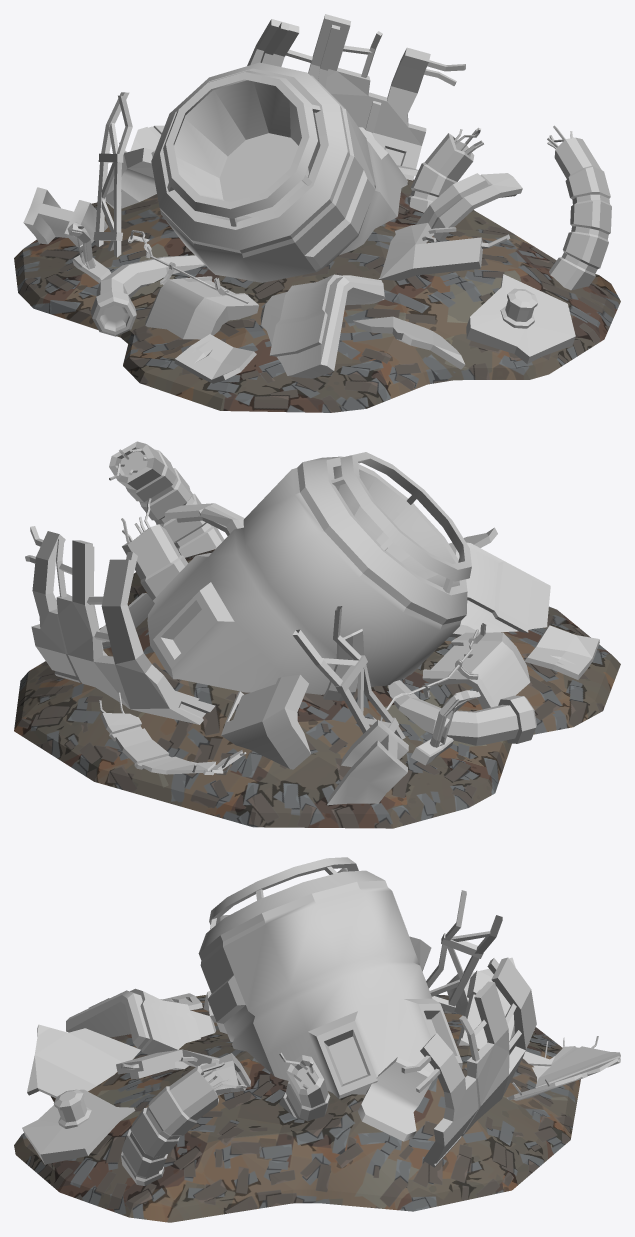
The model's file is SM_Prop_Scav_Scrap_Pile_03.fbx.
3 renders of one model, top to bottom at view 1: azimuth 30°, elevation 25°; view 2: azimuth 150°, elevation 25°; view 3: azimuth 270°, elevation 25°, orthographic. The views are drawn at different scales.
Parts seen in each view (by area): view 1: SM_Prop_Scav_Scrap_Pile_03; view 2: SM_Prop_Scav_Scrap_Pile_03; view 3: SM_Prop_Scav_Scrap_Pile_03.
Part boxes in pixels (left/top/right/bottom): SM_Prop_Scav_Scrap_Pile_03: left=14, top=14, right=620, bottom=412; SM_Prop_Scav_Scrap_Pile_03: left=14, top=441, right=620, bottom=828; SM_Prop_Scav_Scrap_Pile_03: left=14, top=857, right=620, bottom=1222.
Size of the model in its own units: 2214 by 1171 by 2541.
